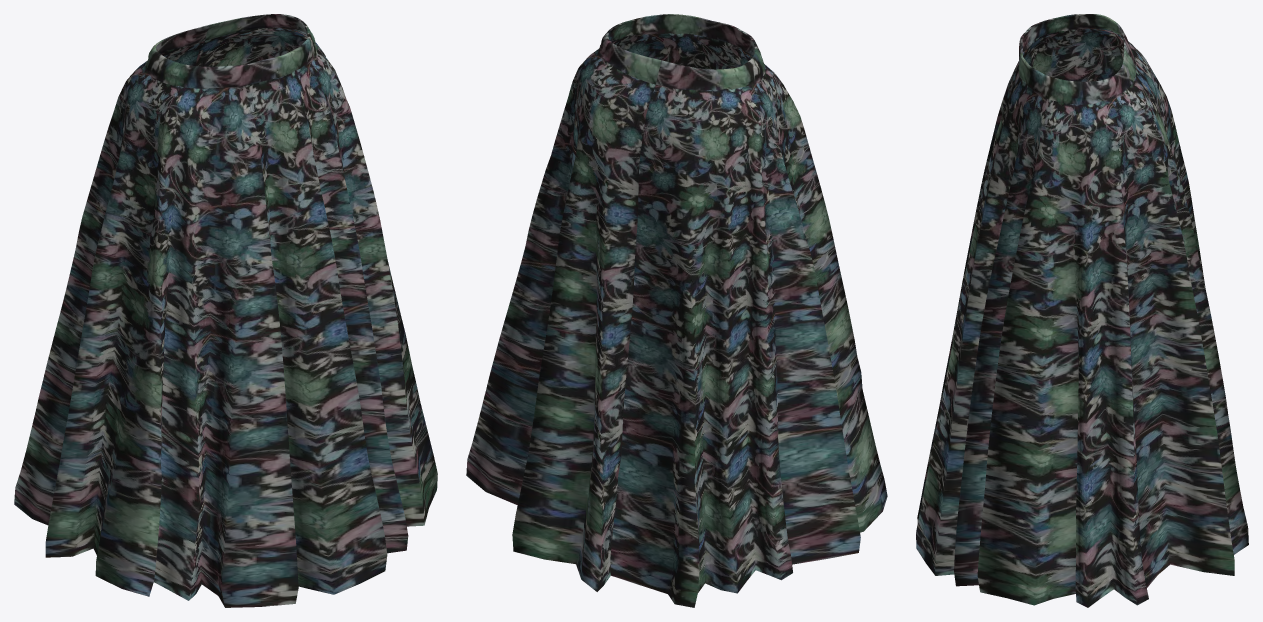
File: toigo-long-full-skirt.glb
3 views of the same model, side by side, from view 1: azimuth 30°, elevation 25°; view 2: azimuth 150°, elevation 25°; view 3: azimuth 270°, elevation 25° (orthographic). The views are drawn at different scales.
Visible parts, largest first — view 1: Human.toigo_long_full_skirt; view 2: Human.toigo_long_full_skirt; view 3: Human.toigo_long_full_skirt.
Part boxes in pixels (<box>): Human.toigo_long_full_skirt: <box>14,14,437,607</box>; Human.toigo_long_full_skirt: <box>466,14,887,607</box>; Human.toigo_long_full_skirt: <box>916,14,1248,607</box>.
Bounding box in the file's own units: 0.6959 × 0.9048 × 0.5357.
Materials: 1 (1 with a texture image).
